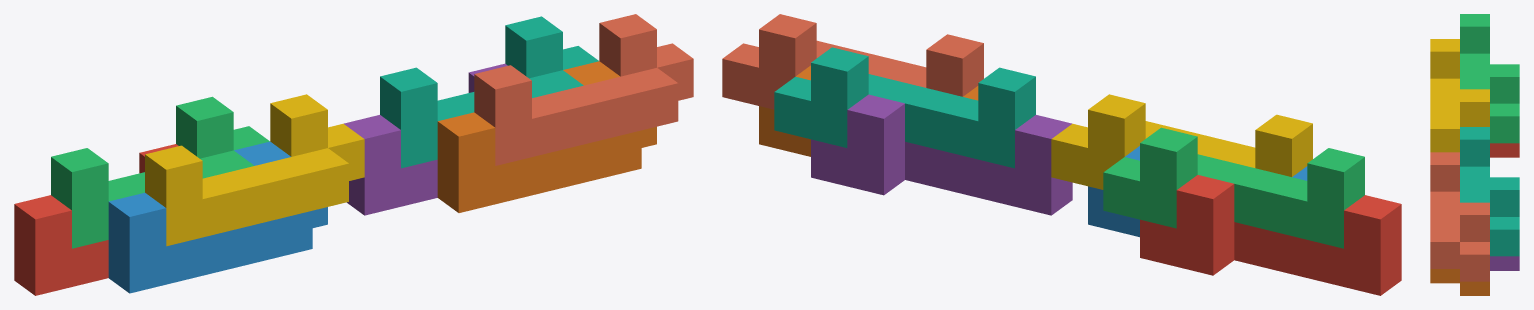
The model's file is tiling.obj.
3 views of the same model, side by side, from view 1: azimuth 30°, elevation 25°; view 2: azimuth 150°, elevation 25°; view 3: azimuth 270°, elevation 25° (orthographic). The views are drawn at different scales.
Visible parts, largest first — view 1: copy_1_domain_8, copy_1_domain_4, copy_1_domain_2, copy_1_domain_6, copy_1_domain_7, copy_1_domain_3, copy_1_domain_1, copy_1_domain_5; view 2: copy_1_domain_1, copy_1_domain_3, copy_1_domain_7, copy_1_domain_5, copy_1_domain_8, copy_1_domain_4, copy_1_domain_6, copy_1_domain_2; view 3: copy_1_domain_8, copy_1_domain_3, copy_1_domain_7, copy_1_domain_4, copy_1_domain_6, copy_1_domain_1, copy_1_domain_5.
Boxes of the visible parts, x1,y1,x2,y2 form: copy_1_domain_8: (474, 14, 693, 165); copy_1_domain_4: (145, 94, 364, 246); copy_1_domain_2: (108, 141, 327, 293); copy_1_domain_6: (437, 61, 656, 212); copy_1_domain_7: (380, 16, 598, 168); copy_1_domain_3: (51, 96, 269, 248); copy_1_domain_1: (14, 144, 178, 295); copy_1_domain_5: (344, 63, 507, 215); copy_1_domain_1: (1140, 175, 1401, 295); copy_1_domain_3: (1103, 127, 1364, 248); copy_1_domain_7: (774, 47, 1035, 168); copy_1_domain_5: (811, 94, 1072, 215); copy_1_domain_8: (722, 14, 983, 109); copy_1_domain_4: (1051, 94, 1312, 189); copy_1_domain_6: (759, 65, 978, 156); copy_1_domain_2: (1088, 146, 1307, 237); copy_1_domain_8: (1430, 152, 1489, 281); copy_1_domain_3: (1460, 14, 1519, 143); copy_1_domain_7: (1460, 127, 1519, 256); copy_1_domain_4: (1430, 39, 1489, 152); copy_1_domain_6: (1430, 269, 1489, 295); copy_1_domain_1: (1490, 143, 1519, 157); copy_1_domain_5: (1490, 256, 1519, 270).
Size of the model in its own units: 18 by 3 by 3.
